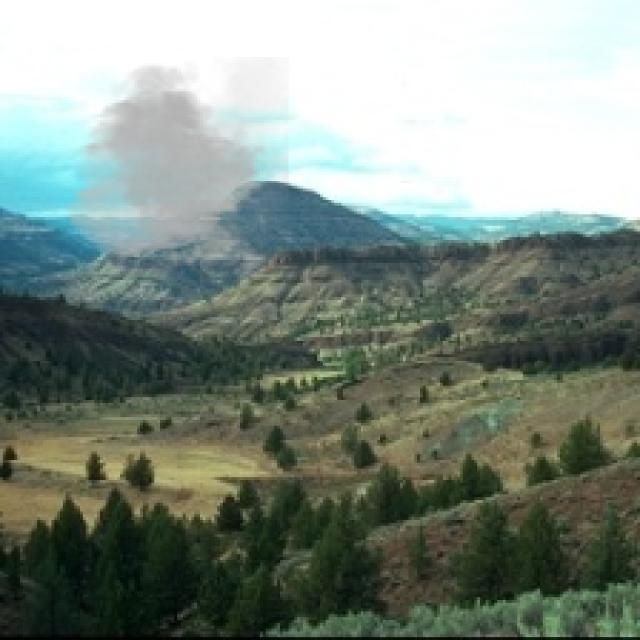smoke: (63, 57, 288, 283)
